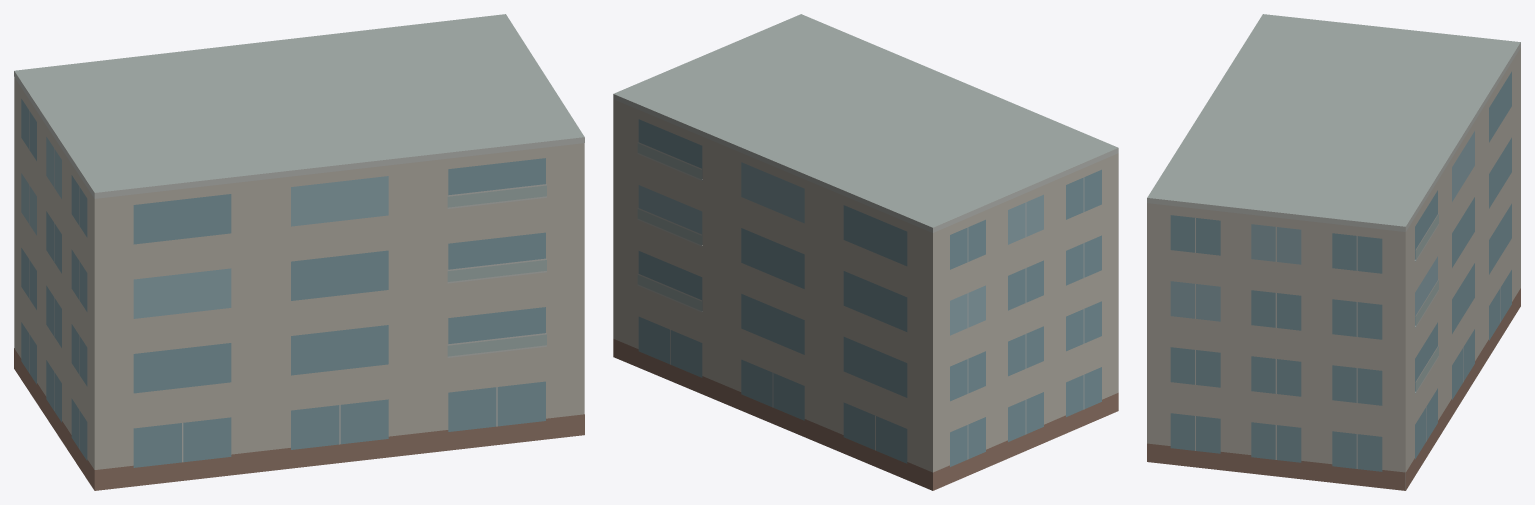
File: survey-upis-32711193.glb
The picture shows the model from 3 angles, left to right: view 1: azimuth 30°, elevation 25°; view 2: azimuth 150°, elevation 25°; view 3: azimuth 270°, elevation 25°; orthographic projection. The views are drawn at different scales.
Visible parts, largest first — view 1: survey-upis-32711193.tmp; view 2: survey-upis-32711193.tmp; view 3: survey-upis-32711193.tmp.
Part boxes in pixels (box(x1,y1,x2,y2)): survey-upis-32711193.tmp: box(14, 14, 584, 490); survey-upis-32711193.tmp: box(613, 14, 1118, 490); survey-upis-32711193.tmp: box(1147, 14, 1520, 490).
Bounding box in the file's own units: 21.09 × 12.2 × 15.66.
